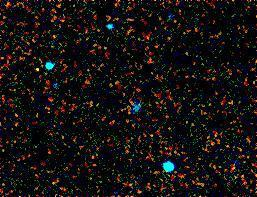star: (18, 54, 48, 84)
